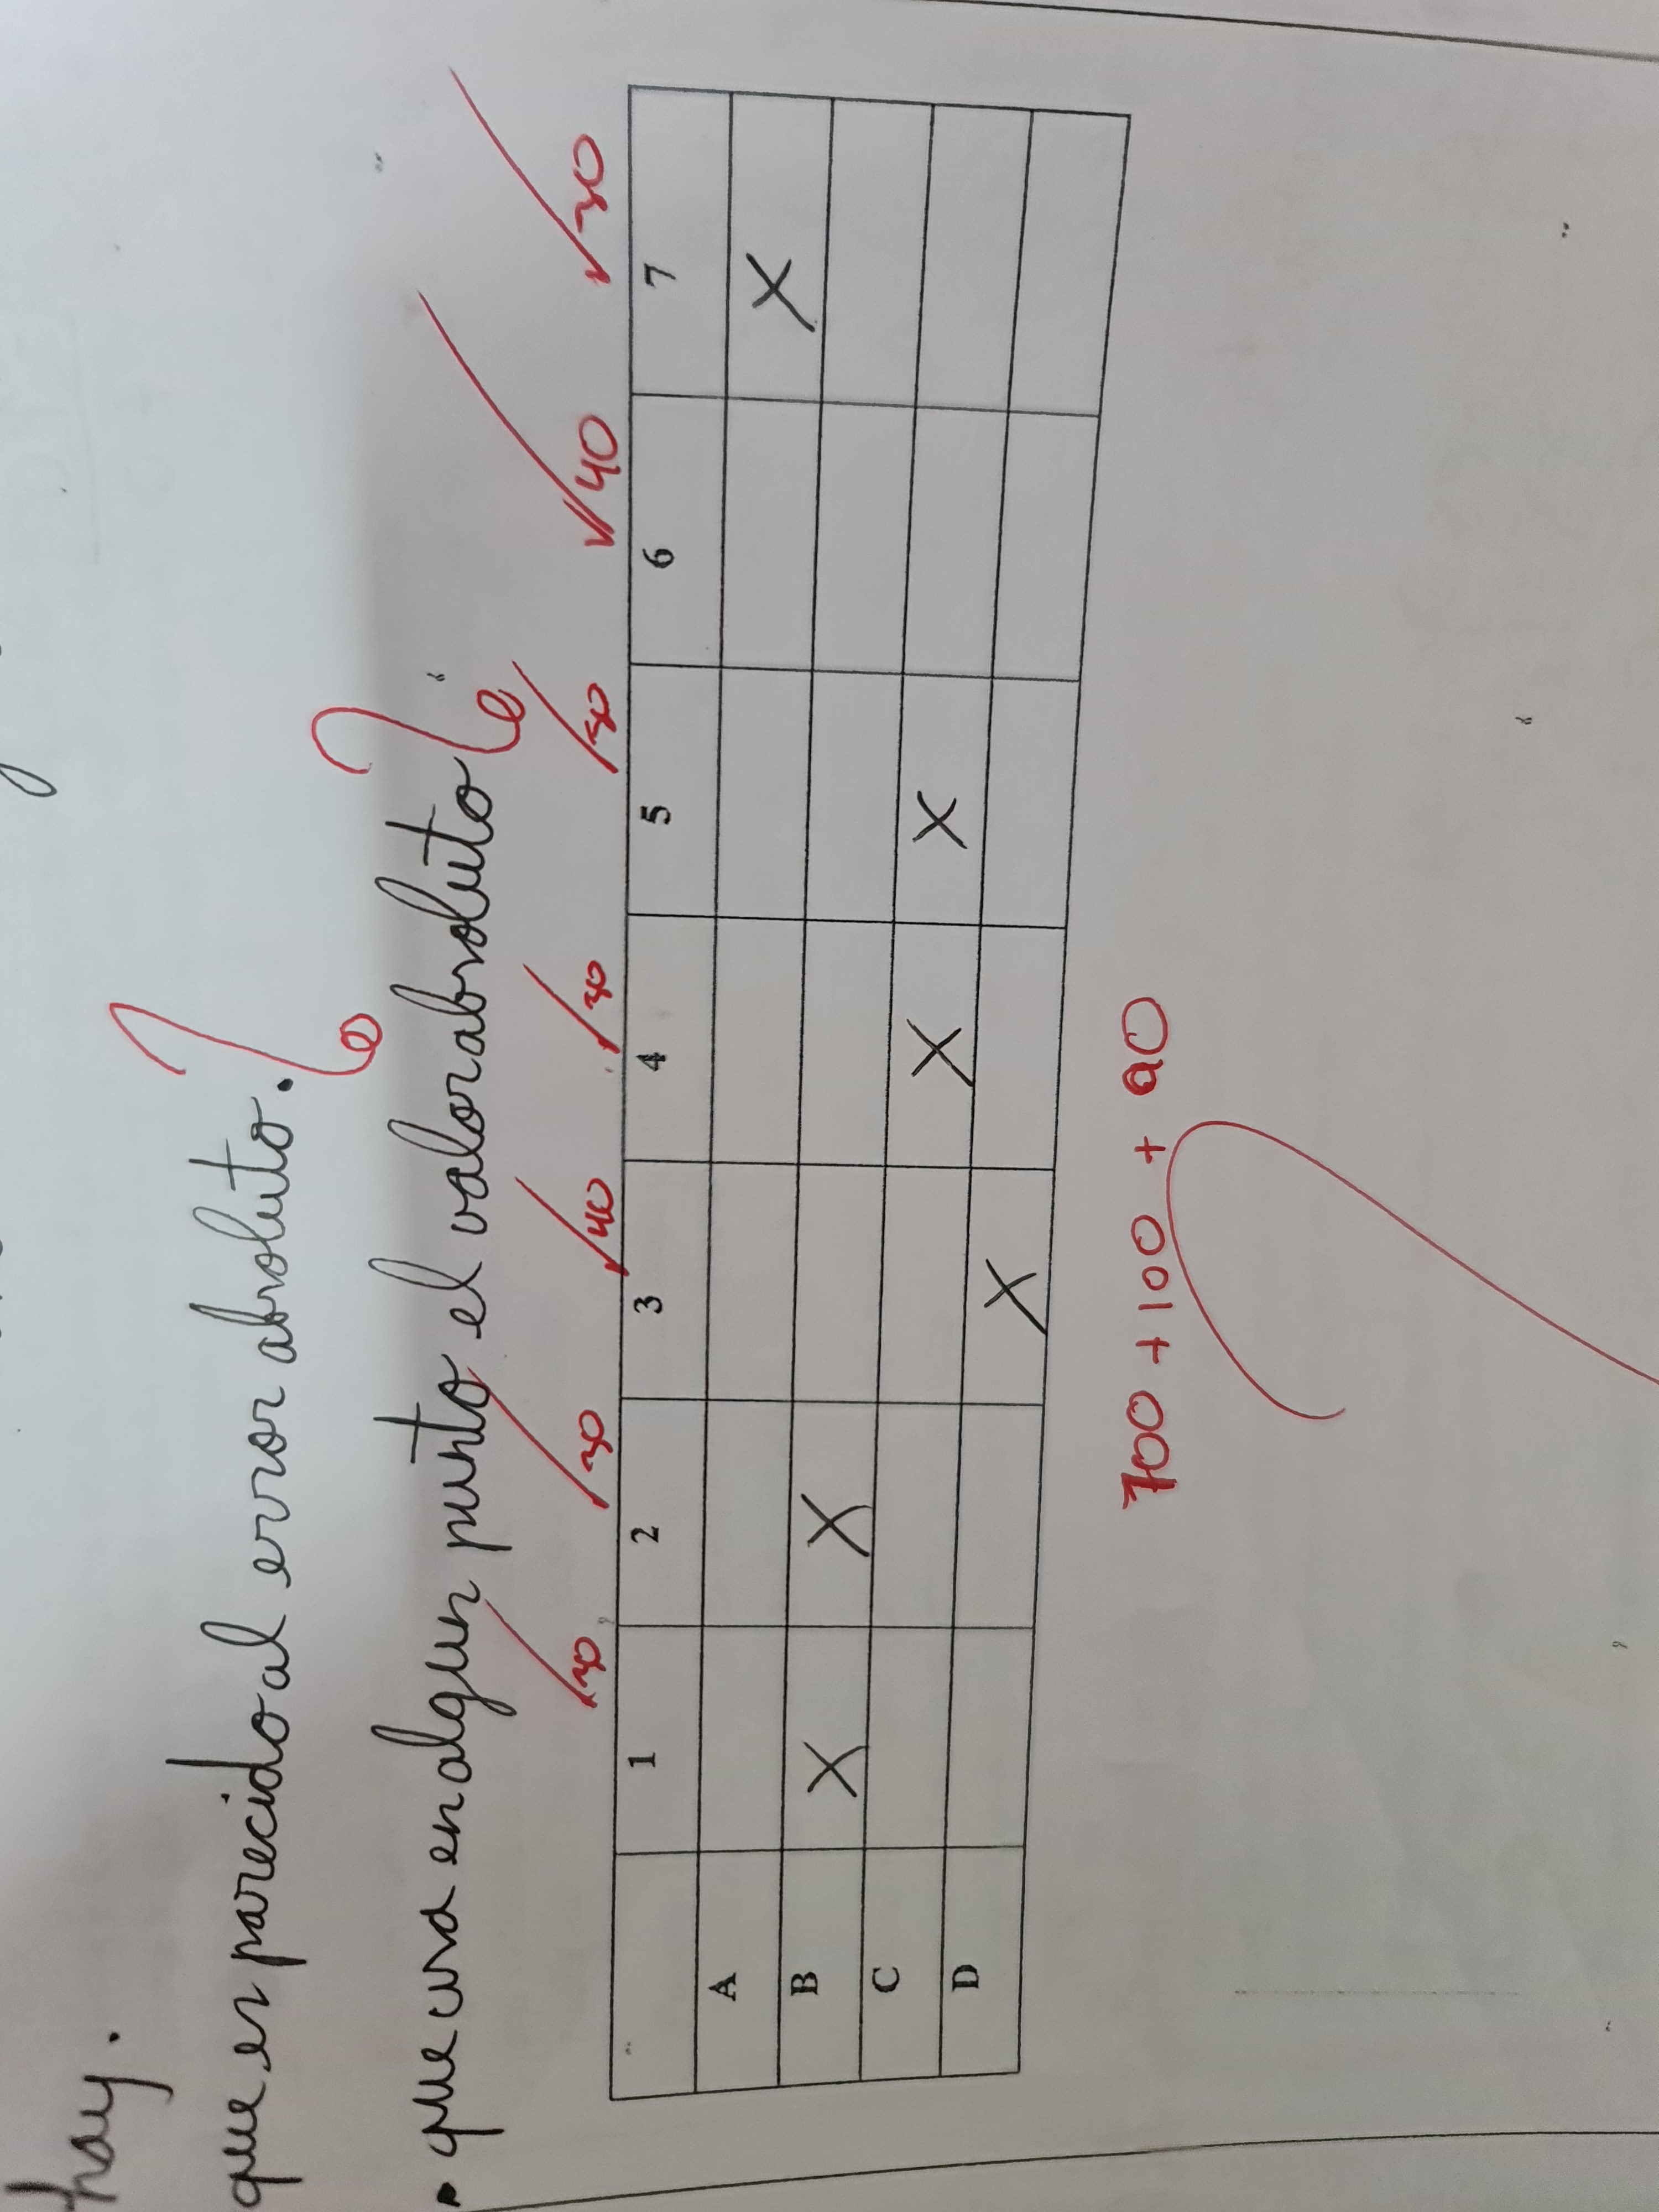column: (608, 655, 1103, 935), (603, 1813, 1042, 2114), (599, 1139, 1075, 1416), (608, 913, 1084, 1181), (603, 1383, 1066, 1639), (592, 1606, 1051, 1858)
